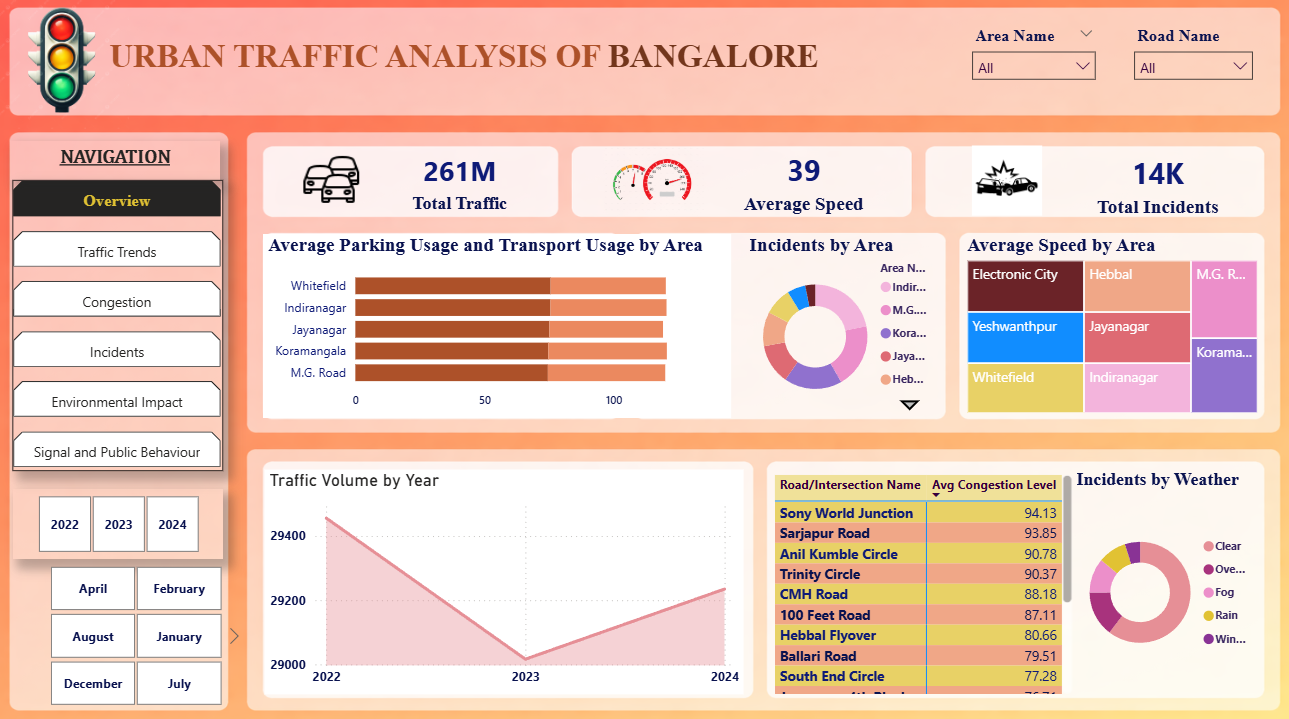

Layout of this report page (visuals, bound fields, positions):
{"tool":"powerbi","page":{"name":"Overview","canvas":[1280,720],"ordinal":0},"visuals":[{"type":"card","fields":{"Values":["Sum(Banglore_traffic_Dataset.Traffic Volume)"]},"box":[365.6,151.5,187.5,68.8],"z":0,"group":"g1"},{"type":"barChart","title":"Average Parking Usage and  Transport Usage by Area","fields":{"Category":["Banglore_traffic_Dataset.Area Name"],"Y":["Measures Table.Average Parking Usage","Measures Table.Average Public Transport Usage"]},"box":[267.2,237.5,457.8,179.7],"z":0},{"type":"image","box":[282.8,157.8,101.6,54.7],"z":1000,"group":"g1"},{"type":"slicer","fields":{"Values":["Banglore_traffic_Dataset.Year"]},"box":[22.7,487.9,205.9,68.5],"z":1000},{"type":"slicer","fields":{"Values":["Banglore_traffic_Dataset.Area Name"]},"box":[951.6,29.7,140.6,71.9],"z":2000,"group":"g2"},{"type":"card","fields":{"Values":["Measures Table.Average Speed"]},"box":[692.2,148.4,206.2,75],"z":2000,"group":"g1"},{"type":"donutChart","title":"Incidents by Area","fields":{"Y":["Measures Table.Sum of Incident"],"Category":["Banglore_traffic_Dataset.Area Name"]},"box":[737.5,237.5,193.8,179.7],"z":2000},{"type":"slicer","fields":{"Values":["Banglore_traffic_Dataset.Road/Intersection Name"]},"box":[1109.4,29.7,135.9,71.9],"z":3000,"group":"g2"},{"type":"image","box":[571.9,151.5,153.1,68.8],"z":3000,"group":"g1"},{"type":"treemap","title":"Average Speed by Area","fields":{"Values":["Measures Table.Average Speed Without KM/H"],"Group":["Banglore_traffic_Dataset.Area Name"]},"box":[951.6,237.5,293.8,179.7],"z":3000},{"type":"card","fields":{"Values":["Measures Table.Sum of Incident"]},"box":[1039,151.5,206.2,75],"z":4000,"group":"g1"},{"type":"areaChart","title":"Traffic Volume by Year","fields":{"Category":["Banglore_traffic_Dataset.Date.Variation.Date Hierarchy.Year"],"Y":["Avg(Banglore_traffic_Dataset.Traffic Volume)"]},"box":[268.8,468.8,468.8,220.3],"z":4000},{"type":"image","box":[910.9,151.5,167.2,68.8],"z":5000,"group":"g1"},{"type":"pivotTable","fields":{"Values":["Measures Table.Average Congestion Level"],"Rows":["Banglore_traffic_Dataset.Road/Intersection Name"]},"box":[764.1,468.8,293.8,220.3],"z":5000},{"type":"donutChart","title":"Incidents by Weather","fields":{"Y":["Measures Table.Sum of Incident"],"Category":["Banglore_traffic_Dataset.Weather Conditions"]},"box":[1057.8,468.8,187.5,220.3],"z":6000},{"type":"textbox","box":[20.3,40,878.1,78],"z":7000},{"type":"image","box":[0,0,137.5,134.4],"z":8000},{"type":"group","id":"g1","title":"Group 1","box":[282.8,148.4,962.5,78.1],"z":9000},{"type":"group","id":"g2","title":"Group 3","box":[951.6,29.7,293.8,71.9],"z":10000},{"type":"pageNavigator","box":[22.7,184.7,205.9,284.7],"z":11000},{"type":"textbox","box":[19.7,146.9,205.9,37.9],"z":12000},{"type":"slicer","fields":{"Values":["Banglore_traffic_Dataset.Month"]},"box":[33.3,556.4,216.5,149.2],"z":13000}]}

Visuals, with their boxes in screenshot pixels (x1, y1, x2, y2), scaled from the page's 1280x720 canvas onto the 1289x719 screenshot:
card - Sum(Banglore_traffic_Dataset.Traffic Volume): 368, 151, 557, 220
"Average Parking Usage and  Transport Usage by Area" barChart: 269, 237, 730, 417
image: 285, 158, 387, 212
slicer - Banglore_traffic_Dataset.Year: 23, 487, 230, 556
slicer - Banglore_traffic_Dataset.Area Name: 958, 30, 1100, 101
card - Measures Table.Average Speed: 697, 148, 905, 223
"Incidents by Area" donutChart: 743, 237, 938, 417
slicer - Banglore_traffic_Dataset.Road/Intersection Name: 1117, 30, 1254, 101
image: 576, 151, 730, 220
"Average Speed by Area" treemap: 958, 237, 1254, 417
card - Measures Table.Sum of Incident: 1046, 151, 1254, 226
"Traffic Volume by Year" areaChart: 271, 468, 743, 688
image: 917, 151, 1086, 220
pivotTable - Measures Table.Average Congestion Level x Banglore_traffic_Dataset.Road/Intersection Name: 769, 468, 1065, 688
"Incidents by Weather" donutChart: 1065, 468, 1254, 688
textbox: 20, 40, 905, 118
image: 0, 0, 138, 134
"Group 1" group: 285, 148, 1254, 226
"Group 3" group: 958, 30, 1254, 101
pageNavigator: 23, 184, 230, 469
textbox: 20, 147, 227, 185
slicer - Banglore_traffic_Dataset.Month: 34, 556, 252, 705
